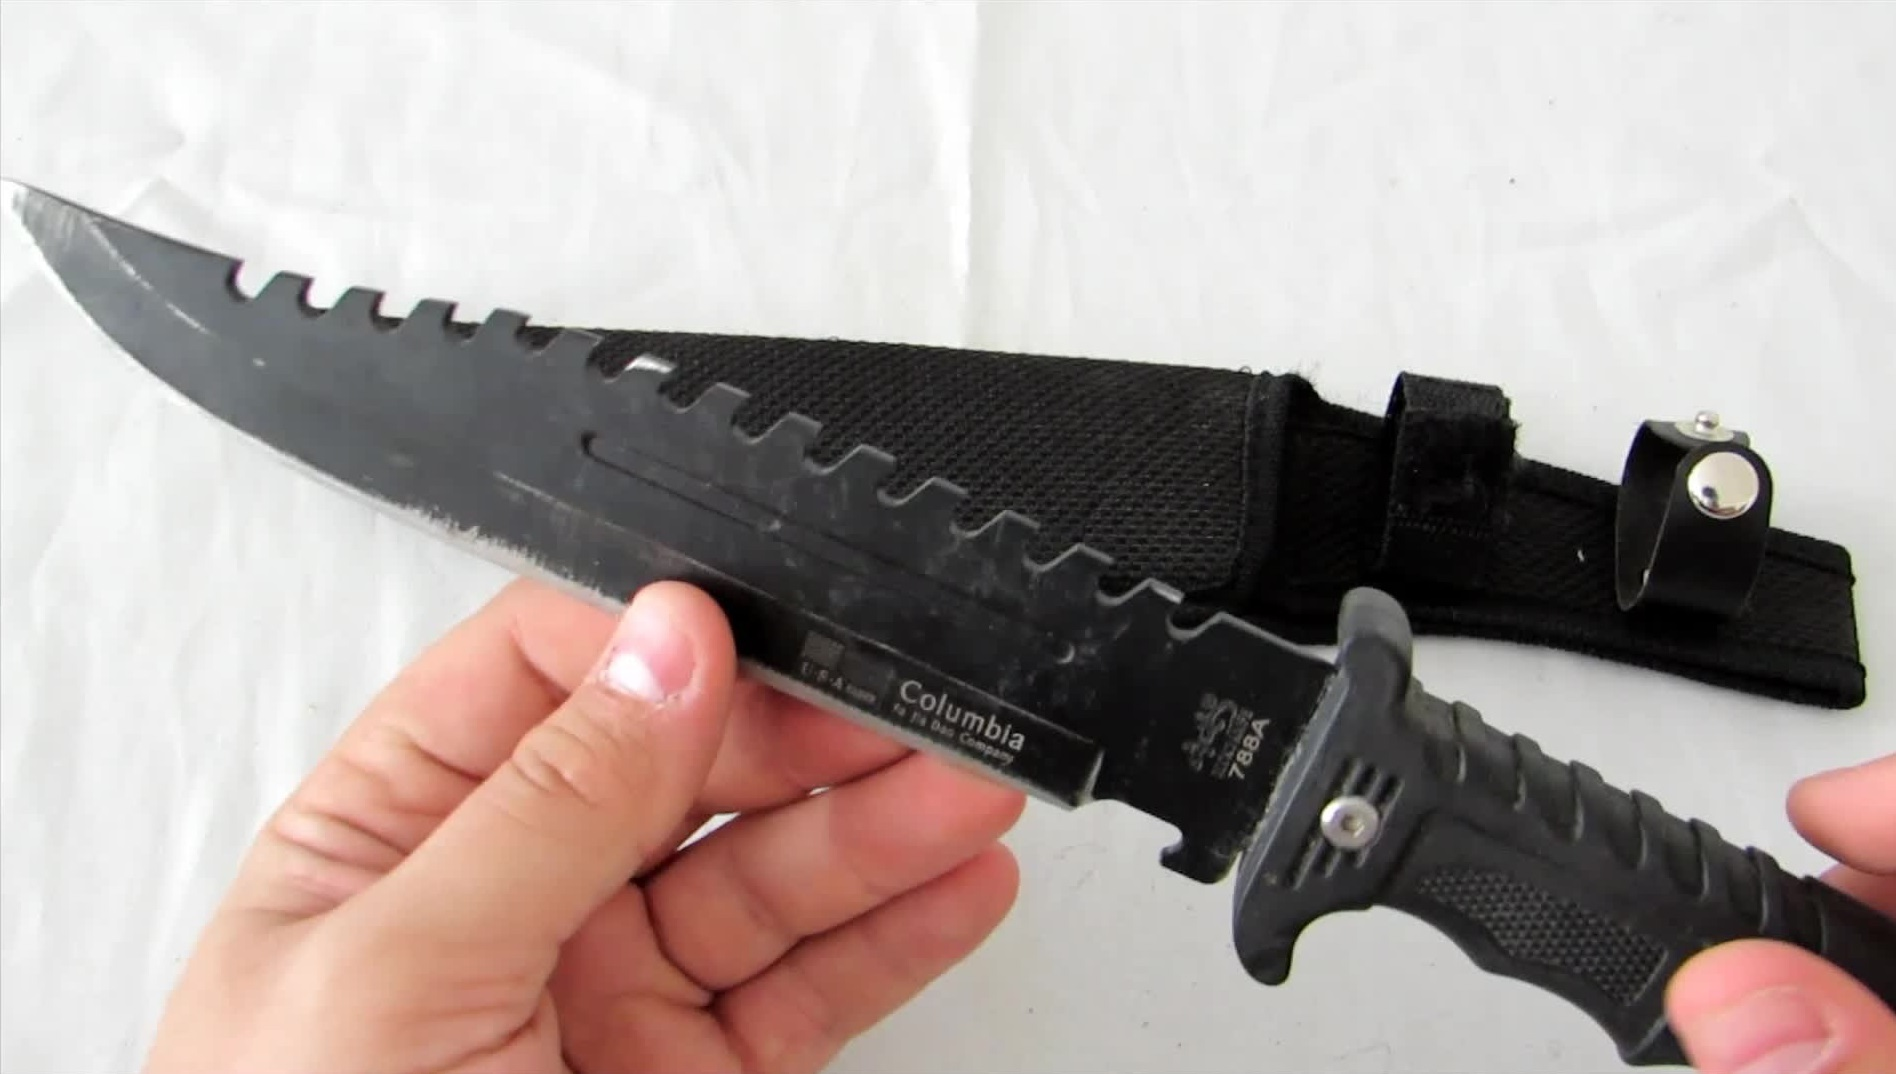knife: (1, 147, 1896, 1074)
